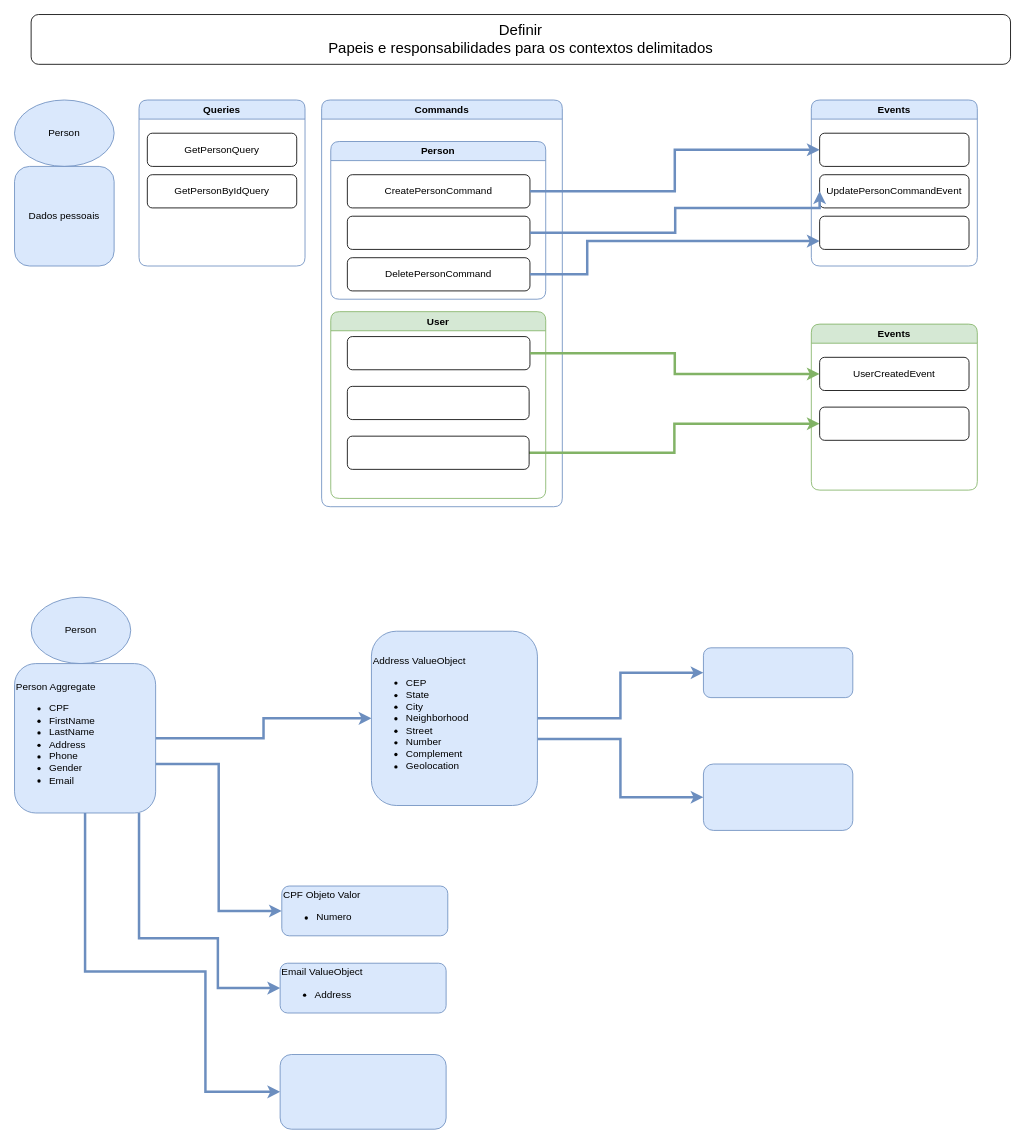
The diagram is 1025 pixels wide and 1144 high, and some of its shapes have lost their labels. Here are the shapes that lost their labels. From the top down, the centre of each, then its label:
the point at 894,149: CreatePersonCommandEvent
the point at 438,232: UpdatePersonCommand
the point at 894,232: DeletePersonCommandEvent
the point at 438,353: CreateUserCommand
the point at 438,403: DeleteUserByPersonIdCommand
the point at 894,423: UserDeletedEvent
the point at 438,452: DeleteUserCommand
the point at 778,672: CEP Objeto Valor Number
the point at 778,796: Geolocation Objeto Valor Latitude Longitude
the point at 362,1091: PhoneNumber ValueObject Phone
